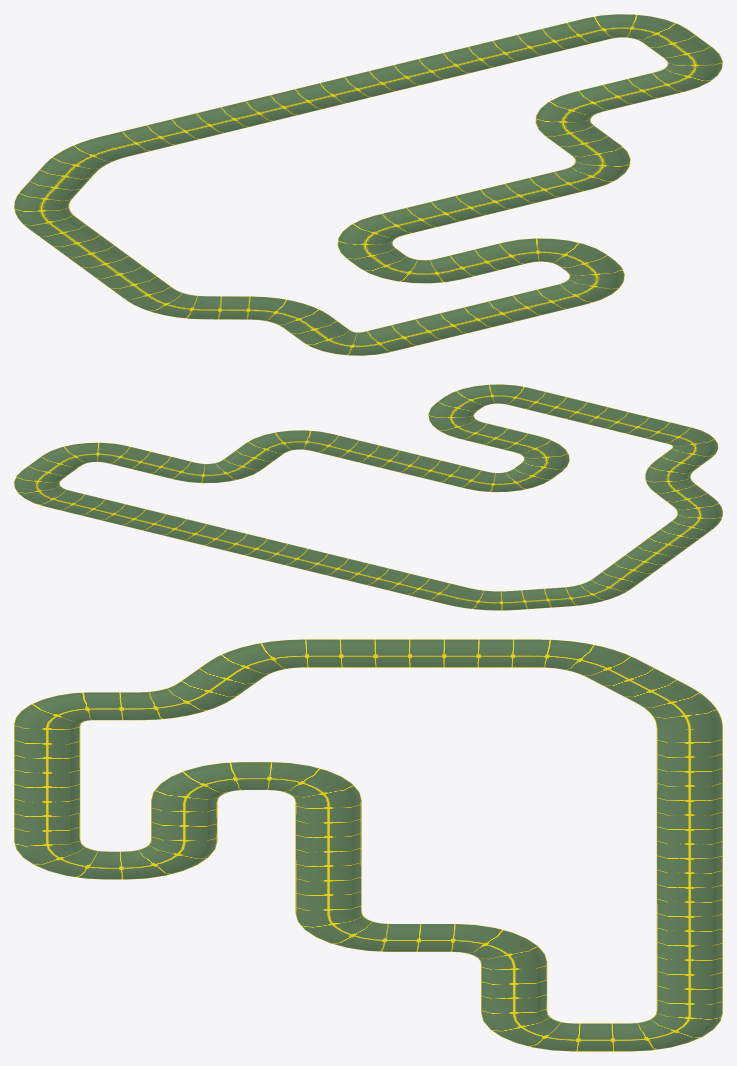
Rendered from rc_ludian.FBX.
The picture shows the model from 3 angles, top to bottom: view 1: azimuth 30°, elevation 25°; view 2: azimuth 150°, elevation 25°; view 3: azimuth 270°, elevation 25°; orthographic projection. The views are drawn at different scales.
Parts seen in each view (by area): view 1: Line003; view 2: Line003; view 3: Line003.
Boxes of the visible parts, left/top/right/bottom form: Line003: left=14, top=14, right=722, bottom=355; Line003: left=14, top=384, right=722, bottom=610; Line003: left=14, top=639, right=722, bottom=1051.
Bounding box in the file's own units: 66005 × 47997 × 201.
